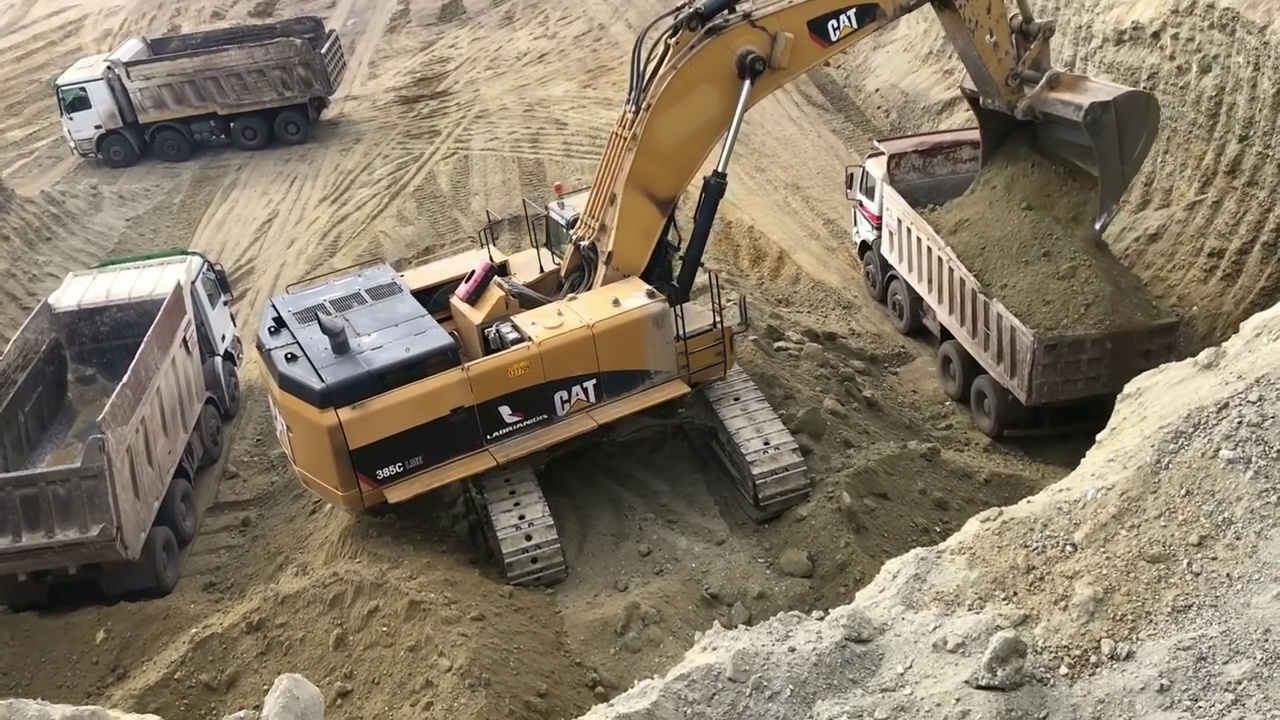excavator: (261, 5, 1162, 596)
truck: (847, 125, 1181, 441), (2, 245, 242, 601), (55, 12, 345, 163)
